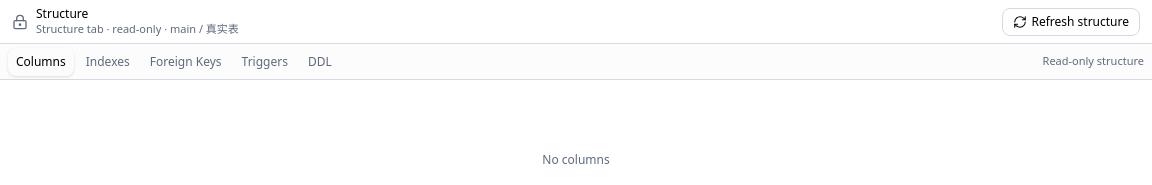
uses runtime capability to skip DDL and isolates an indexes failure from columns
The width and height of the screenshot is (1152, 185).
Expected: the text "No columns" is shown, top-left (542, 151), bottom-right (610, 168)
Click the button "Indexes". click: (108, 62)
box: top-left (78, 48), bottom-right (138, 76)
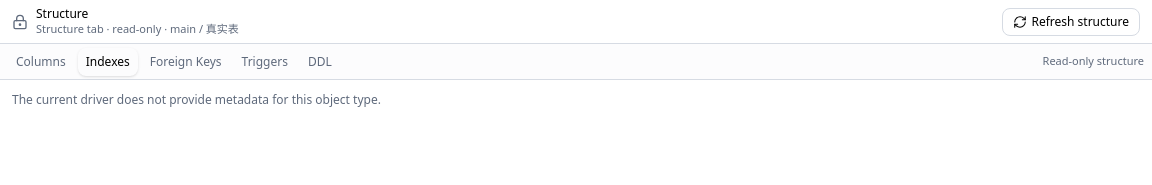
Expected: the text "The current driver does not provide metadata for this object type." is shown, top-left (12, 91), bottom-right (381, 108)
Click the button "Foreign Keys". click: (186, 62)
box: top-left (142, 48), bottom-right (230, 76)
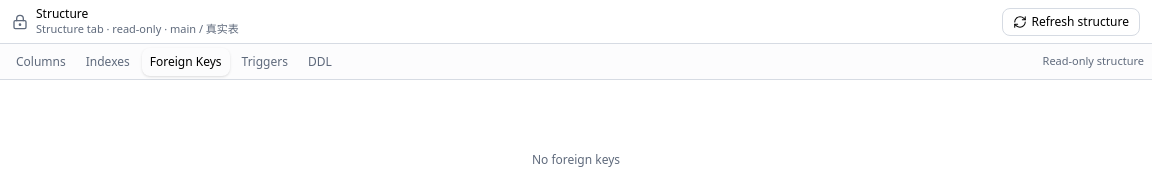
Expected: the text "No foreign keys" is shown, top-left (532, 151), bottom-right (620, 168)
